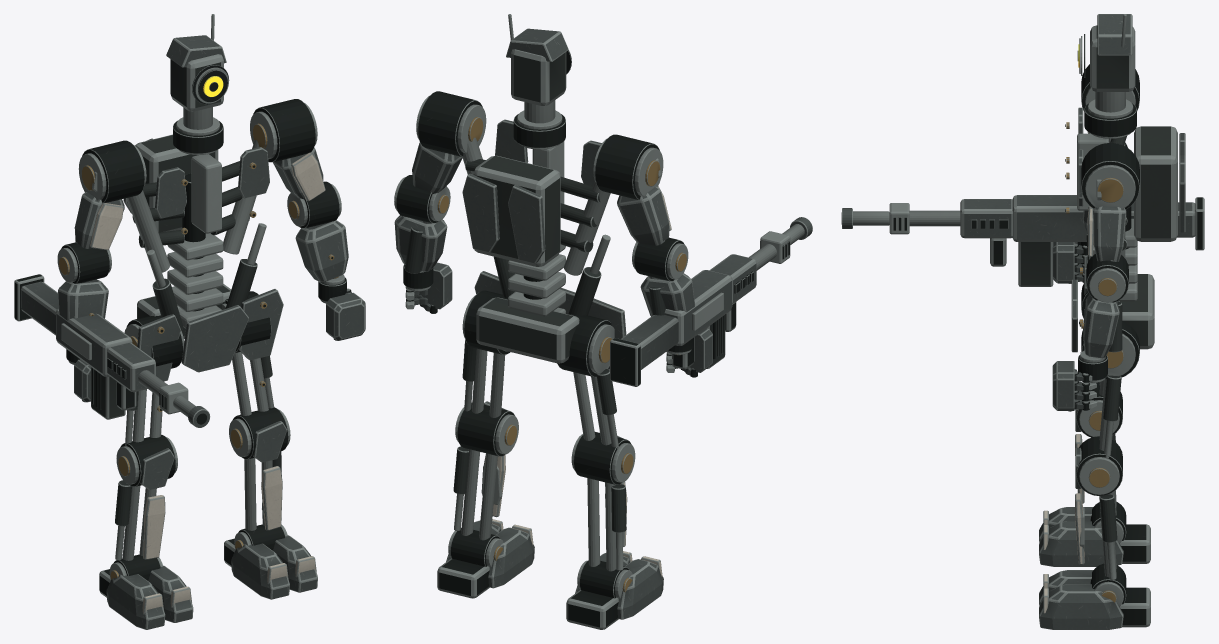
Rendered from ranged-t1-specter.glb.
The picture shows the model from 3 angles, left to right: view 1: azimuth 30°, elevation 25°; view 2: azimuth 150°, elevation 25°; view 3: azimuth 270°, elevation 25°; orthographic projection. The views are drawn at different scales.
Parts seen in each view (by area): view 1: chest__metal, pelvis__metal, pelvis__clay, weaponR__clay, weaponR__metal, ankleL__clay, ankleR__clay, kneeR__metal, head__metal, shoulderR__metal, shoulderL__metal, kneeL__metal (+17 smaller); view 2: pelvis__metal, chest__metal, chest__clay, kneeL__metal, kneeR__metal, weaponR__clay, weaponR__metal, shoulderR__metal, shoulderL__metal, head__metal, ankleL__metal, ankleR__metal (+14 smaller); view 3: chest__metal, weaponR__clay, weaponR__metal, pelvis__metal, ankleL__clay, kneeL__metal, shoulderL__metal, ankleR__clay, head__metal, elbowL__metal, ankleL__metal, shoulderL__clay (+13 smaller).
Boxes of the visible parts, box(x1,y1,x2,y2) form: chest__metal: box(126, 117, 259, 272); pelvis__metal: box(124, 173, 271, 368); pelvis__clay: box(137, 289, 283, 381); weaponR__clay: box(21, 281, 210, 427); weaponR__metal: box(14, 274, 206, 424); ankleL__clay: box(231, 535, 317, 599); ankleR__clay: box(106, 565, 193, 629); kneeR__metal: box(115, 434, 177, 560); head__metal: box(170, 14, 229, 129); shoulderR__metal: box(76, 140, 146, 243); shoulderL__metal: box(250, 99, 317, 162); kneeL__metal: box(229, 407, 290, 530); pelvis__metal: box(462, 234, 614, 376); chest__metal: box(462, 110, 610, 275); chest__clay: box(462, 119, 601, 263); kneeL__metal: box(453, 402, 518, 540); kneeR__metal: box(571, 432, 635, 571); weaponR__clay: box(621, 217, 812, 369); weaponR__metal: box(610, 224, 804, 386); shoulderR__metal: box(593, 134, 664, 242); shoulderL__metal: box(416, 91, 486, 156); head__metal: box(508, 14, 571, 123); ankleL__metal: box(437, 528, 503, 598); ankleR__metal: box(566, 560, 632, 629); chest__metal: box(1065, 99, 1177, 258); weaponR__clay: box(842, 195, 1195, 241); weaponR__metal: box(841, 197, 1204, 286); pelvis__metal: box(1079, 206, 1154, 379); ankleL__clay: box(1039, 570, 1123, 629); kneeL__metal: box(1076, 436, 1122, 579); shoulderL__metal: box(1081, 142, 1139, 261); ankleR__clay: box(1039, 507, 1123, 566); head__metal: box(1077, 14, 1135, 112); elbowL__metal: box(1080, 254, 1128, 352); ankleL__metal: box(1090, 563, 1150, 627); shoulderL__clay: box(1087, 206, 1126, 261).
Bounding box in the file's own units: 2.33 × 4.4 × 2.48.
11 materials, 10 textured.
